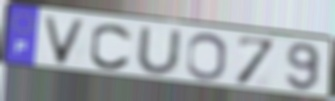7: (235, 34, 277, 87)
9: (284, 42, 322, 93)
C: (88, 21, 135, 72)
O: (184, 32, 227, 83)
U: (135, 26, 184, 77)
V: (41, 14, 90, 67)
